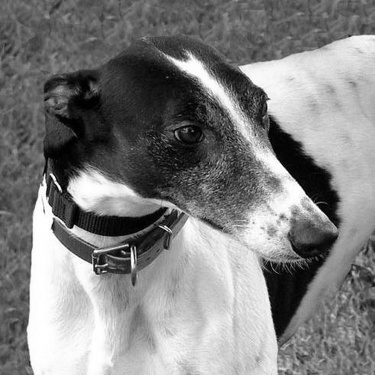dog: (22, 26, 371, 372)
